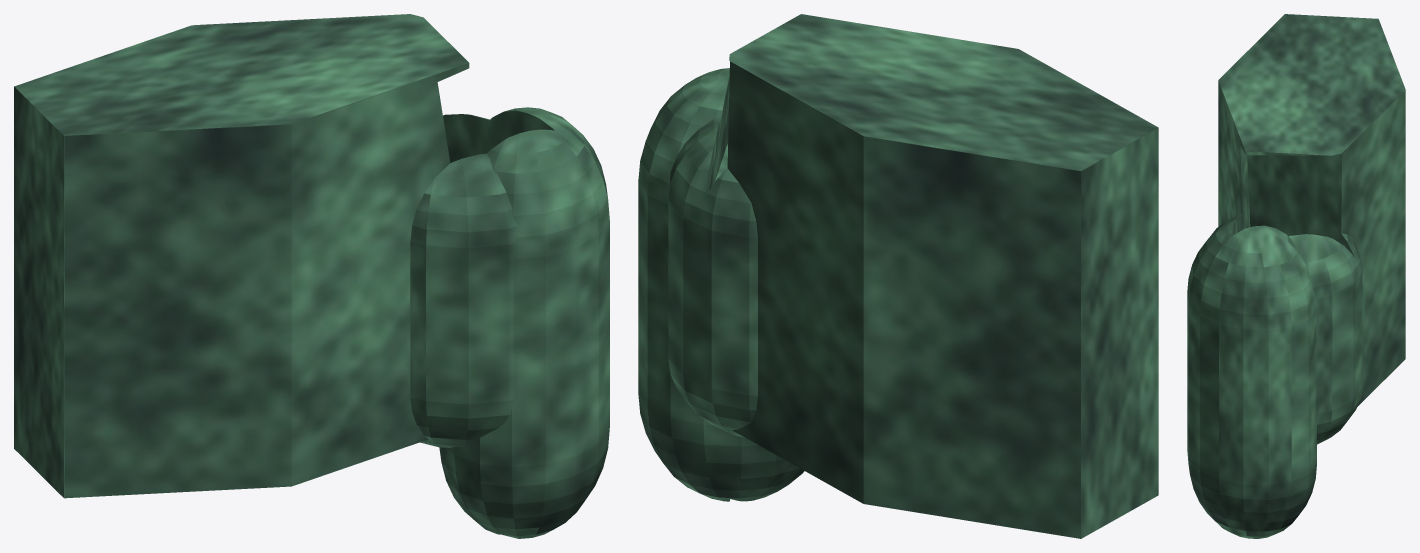
The picture shows the model from 3 angles, left to right: view 1: azimuth 30°, elevation 25°; view 2: azimuth 150°, elevation 25°; view 3: azimuth 270°, elevation 25°; orthographic projection. The views are drawn at different scales.
Visible parts, largest first — view 1: geometry_0; view 2: geometry_0; view 3: geometry_0.
Boxes of the visible parts, <box> form: geometry_0: <box>14,14,609,538</box>; geometry_0: <box>638,14,1158,538</box>; geometry_0: <box>1187,14,1405,538</box>.
Bounding box in the file's own units: 1.71 × 1.53 × 0.8415.
Materials: 1 (1 with a texture image).
